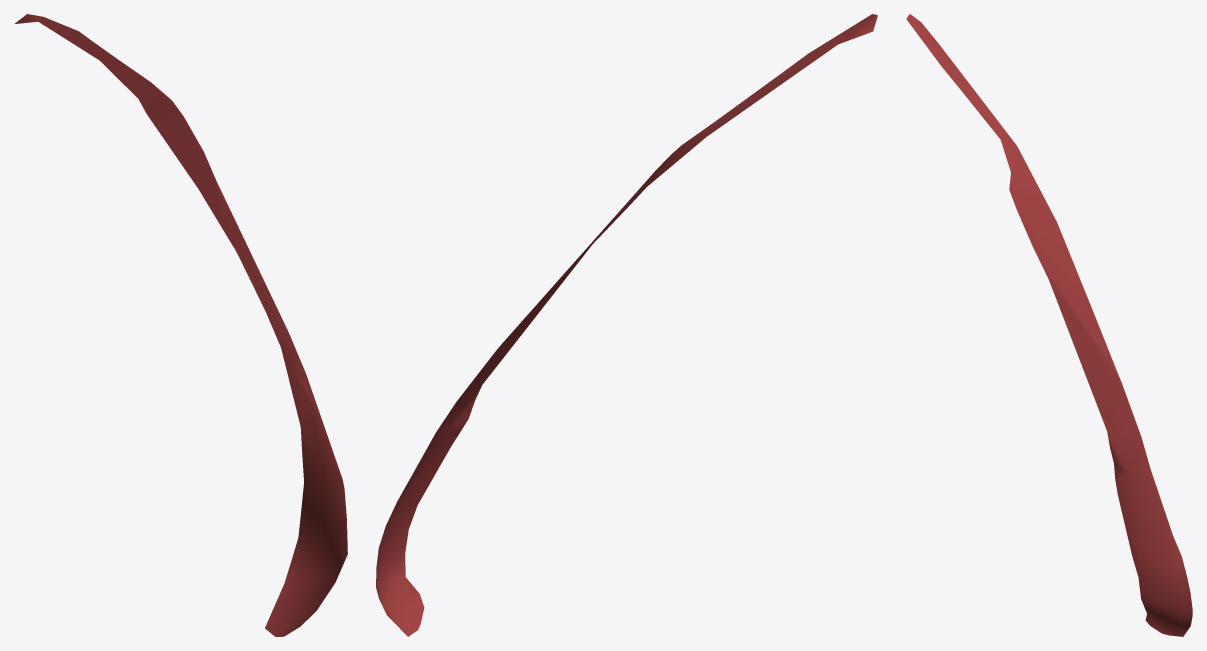
File: erector-spinae-or.glb
3 renders of one model, left to right at view 1: azimuth 30°, elevation 25°; view 2: azimuth 150°, elevation 25°; view 3: azimuth 270°, elevation 25°, orthographic. The views are drawn at different scales.
Parts seen in each view (by area): view 1: Erector spinae.or; view 2: Erector spinae.or; view 3: Erector spinae.or.
Boxes of the visible parts, x1,y1,x2,y2 form: Erector spinae.or: (15, 14, 347, 636); Erector spinae.or: (376, 14, 877, 636); Erector spinae.or: (906, 14, 1192, 636).
Bounding box in the file's own units: 0.0374 × 0.0602 × 0.0316.
